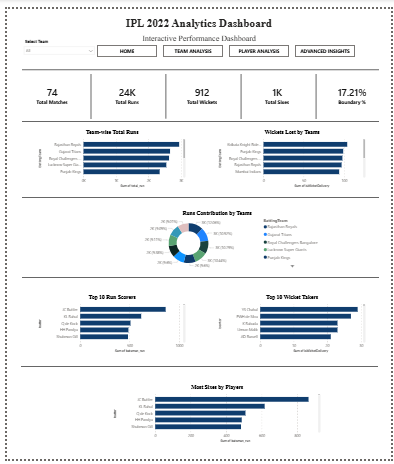

This screenshot's page, from the dashboard's own definition file:
{"tool":"powerbi","page":{"name":"Home Dashboard","canvas":[1280,1500],"ordinal":0},"visuals":[{"type":"textbox","box":[0,18.5,1280,57.1],"z":0},{"type":"textbox","box":[0,75.6,1280,42],"z":1000},{"type":"cardVisual","fields":{"Data":["Measure_Table.Total_matches"]},"box":[50,235,200,100],"z":2000},{"type":"cardVisual","fields":{"Data":["Measure_Table.Total_sixes"]},"box":[800,236.1,200,100.8],"z":3000},{"type":"cardVisual","fields":{"Data":["Measure_Table.Total_runs"]},"box":[300,236.1,200,100.8],"z":4000},{"type":"cardVisual","fields":{"Data":["Measure_Table.Total_wickets"]},"box":[550,236.1,200,100],"z":5000},{"type":"clusteredBarChart","title":"Team-wise Total Runs","fields":{"Category":["IPL_Data.BattingTeam"],"Y":["Sum(IPL_Data.total_run)"]},"box":[100,400,500,200],"z":6000},{"type":"donutChart","title":"Runs Contribution by Teams","fields":{"Category":["IPL_Data.BattingTeam"],"Y":["Sum(IPL_Data.total_run)"]},"box":[350,670,700,200],"z":7000},{"type":"barChart","title":"Wickets Lost by Teams","fields":{"Category":["IPL_Data.BattingTeam"],"Y":["Sum(IPL_Data.isWicketDelivery)"]},"box":[700,400,500,200],"z":8000},{"type":"clusteredBarChart","title":"Top 10 Run Scorers","fields":{"Category":["IPL_Data.batter"],"Y":["Sum(IPL_Data.batsman_run)"]},"box":[100,950,500,200],"z":9000},{"type":"barChart","title":"Top 10 Wicket Takers","fields":{"Category":["IPL_Data.bowler"],"Y":["Sum(IPL_Data.isWicketDelivery)"]},"box":[700,950,500,200],"z":10000},{"type":"barChart","title":"Most Sixes by Players","fields":{"Category":["IPL_Data.batter"],"Y":["Sum(IPL_Data.batsman_run)"]},"box":[350,1250,700,200],"z":11000},{"type":"shape","box":[49.6,163.4,1190,78.3],"z":12000},{"type":"shape","box":[49.6,300,1190,150],"z":13000},{"type":"shape","box":[50,554.3,1190,150],"z":14000},{"type":"shape","box":[50,818.3,1190,150],"z":15000},{"type":"shape","box":[45,1116.7,1190,150],"z":16000},{"type":"slicer","fields":{"Values":["Dim_Team.Team Name"]},"box":[45.4,96.4,255.1,82.2],"z":17000},{"type":"cardVisual","fields":{"Data":["Measure_Table.Boundary %"]},"box":[1050,236,200,100],"z":18000},{"type":"shape","box":[270,215,20,150],"z":19000},{"type":"shape","box":[520,215,19.1,149.1],"z":20000},{"type":"shape","box":[1020,215,20.5,150.4],"z":21000},{"type":"shape","box":[770,215,20.5,150.4],"z":22000},{"type":"actionButton","box":[300,120,200,40.1],"z":23000},{"type":"actionButton","box":[960,120,200,40.1],"z":24000},{"type":"actionButton","box":[740,120,200,40.1],"z":25000},{"type":"actionButton","box":[520,120,200,40.1],"z":26000}]}

Visuals, with their boxes in screenshot pixels (x1, y1, x2, y2), scaled from the page's 1280x1500 canvas onto the 394x464 screenshot:
textbox: box(0, 6, 393, 23)
textbox: box(0, 23, 393, 36)
cardVisual - Measure_Table.Total_matches: box(15, 73, 77, 104)
cardVisual - Measure_Table.Total_sixes: box(246, 73, 308, 104)
cardVisual - Measure_Table.Total_runs: box(92, 73, 154, 104)
cardVisual - Measure_Table.Total_wickets: box(169, 73, 231, 104)
"Team-wise Total Runs" clusteredBarChart: box(31, 124, 185, 186)
"Runs Contribution by Teams" donutChart: box(108, 207, 323, 269)
"Wickets Lost by Teams" barChart: box(215, 124, 369, 186)
"Top 10 Run Scorers" clusteredBarChart: box(31, 294, 185, 356)
"Top 10 Wicket Takers" barChart: box(215, 294, 369, 356)
"Most Sixes by Players" barChart: box(108, 387, 323, 449)
shape: box(15, 51, 382, 75)
shape: box(15, 93, 382, 139)
shape: box(15, 171, 382, 218)
shape: box(15, 253, 382, 300)
shape: box(14, 345, 380, 392)
slicer - Dim_Team.Team Name: box(14, 30, 92, 55)
cardVisual - Measure_Table.Boundary %: box(323, 73, 385, 104)
shape: box(83, 67, 89, 113)
shape: box(160, 67, 166, 113)
shape: box(314, 67, 320, 113)
shape: box(237, 67, 243, 113)
actionButton: box(92, 37, 154, 50)
actionButton: box(296, 37, 357, 50)
actionButton: box(228, 37, 289, 50)
actionButton: box(160, 37, 222, 50)
